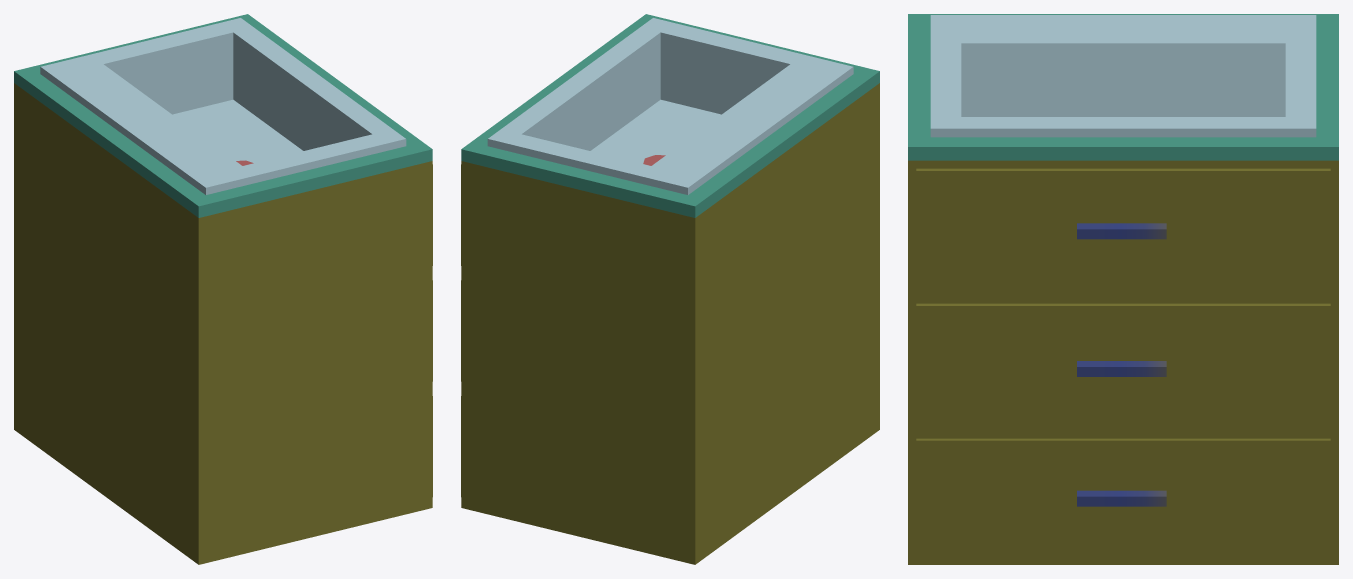
Rendered from Kitchen_Cabinet2.fbx.
3 views of the same model, side by side, from view 1: azimuth 30°, elevation 25°; view 2: azimuth 150°, elevation 25°; view 3: azimuth 270°, elevation 25° (orthographic). The views are drawn at different scales.
Parts seen in each view (by area): view 1: Kitchen_Cabinet2; view 2: Kitchen_Cabinet2; view 3: Kitchen_Cabinet2.
Boxes of the visible parts, x1,y1,x2,y2 form: Kitchen_Cabinet2: (14, 14, 432, 564); Kitchen_Cabinet2: (461, 14, 879, 564); Kitchen_Cabinet2: (908, 14, 1338, 564).
Size of the model in its own units: 93.63 by 132 by 121.
